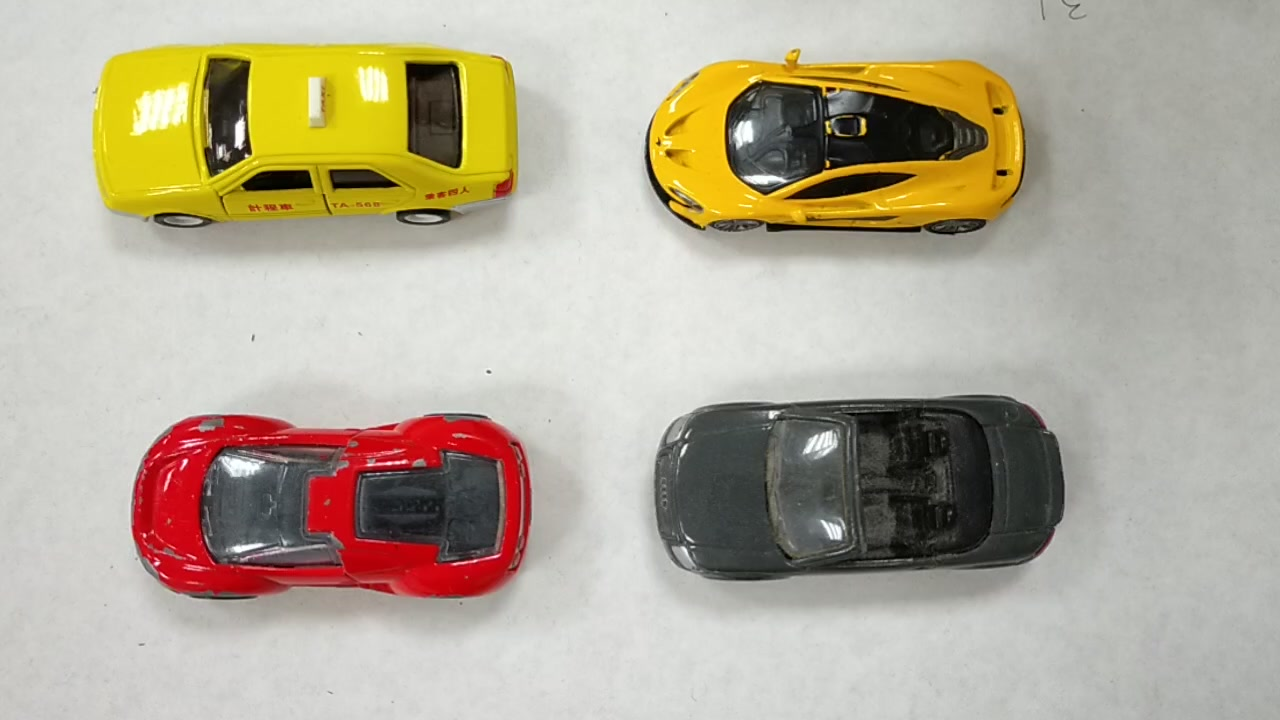car: (121, 420, 541, 604), (652, 394, 1057, 575), (96, 46, 521, 218), (646, 63, 1034, 237)
